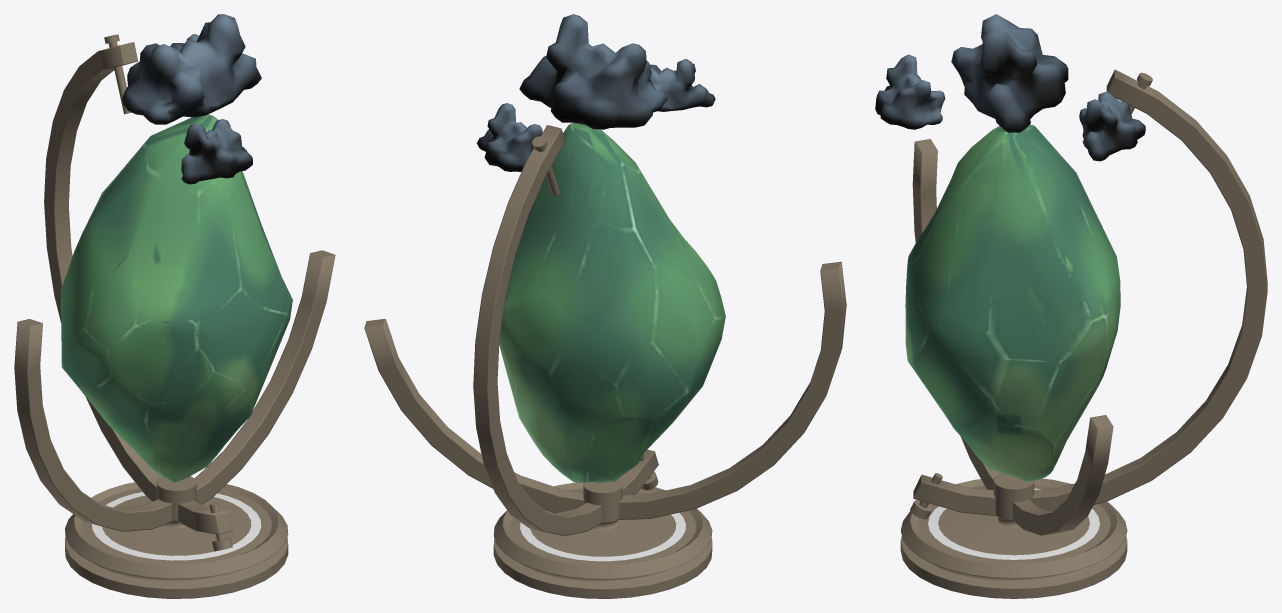
The model's file is JadeArdinals_126.glb.
3 views of the same model, side by side, from view 1: azimuth 30°, elevation 25°; view 2: azimuth 150°, elevation 25°; view 3: azimuth 270°, elevation 25° (orthographic). The views are drawn at different scales.
Visible parts, largest first — view 1: lightG, halfmoon, DarkCloud; view 2: lightG, halfmoon, DarkCloud; view 3: lightG, halfmoon, DarkCloud.
Boxes of the visible parts, <box> form: lightG: <box>60,114,292,482</box>; halfmoon: <box>14,34,335,598</box>; DarkCloud: <box>122,14,261,184</box>; lightG: <box>499,122,725,482</box>; halfmoon: <box>364,125,846,598</box>; DarkCloud: <box>477,14,715,171</box>; lightG: <box>905,125,1120,482</box>; halfmoon: <box>900,69,1267,598</box>; DarkCloud: <box>875,14,1145,161</box>.
Bounding box in the file's own units: 4.17 × 5.27 × 3.46.
Materials: 4 (2 with a texture image).
